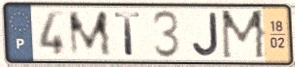3: (151, 9, 182, 60)
4: (36, 9, 68, 58)
J: (190, 11, 221, 59)
M: (219, 8, 268, 62), (66, 9, 114, 59)
T: (112, 11, 144, 57)
